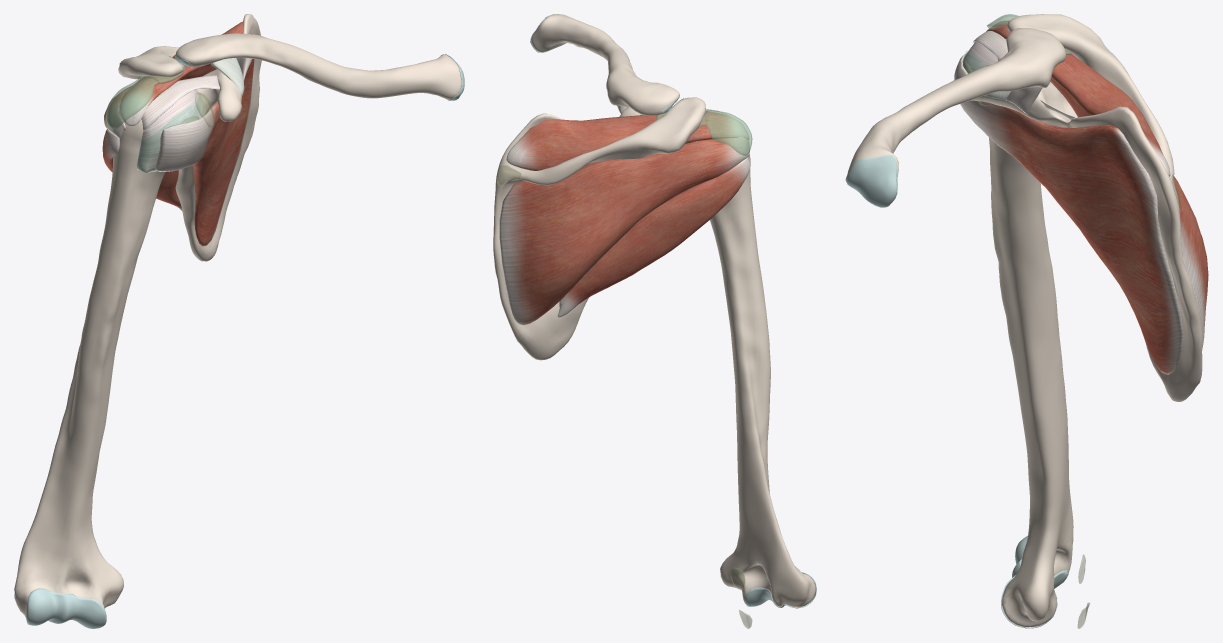
The model's file is open3dmodel-rotator-cuff.glb.
The picture shows the model from 3 angles, left to right: view 1: azimuth 30°, elevation 25°; view 2: azimuth 150°, elevation 25°; view 3: azimuth 270°, elevation 25°; orthographic projection. The views are drawn at different scales.
Visible parts, largest first — view 1: Humerus.r, Clavicle.r, Subscapularis muscle.r, Scapula.r, Art cart of humerus distal end.r, Supraspinatus muscle.r, Articular capsule of glenohumeral joint.r, Subacromial-subdeltoid bursa.r, Subdeltoid bursa.r, Coracohumeral ligament.r, Teres minor muscle.r, Coracoclavicular ligament.r (+1 smaller); view 2: Infraspinatus muscle.r, Humerus.r, Scapula.r, Teres minor muscle.r, Supraspinatus muscle.r, Clavicle.r, Subacromial-subdeltoid bursa.r, Subdeltoid bursa.r, Art cart of humerus distal end.r; view 3: Humerus.r, Subscapularis muscle.r, Scapula.r, Clavicle.r, Supraspinatus muscle.r, Infraspinatus muscle.r, Art cart of sternoclavicular joint on clavicle.r, Coracoclavicular ligament.r, Articular capsule of glenohumeral joint.r, Art cart of humerus distal end.r, Coracohumeral ligament.r.
Boxes of the visible parts, x1,y1,x2,y2 form: Humerus.r: [14, 109, 165, 619]; Clavicle.r: [175, 33, 461, 100]; Subscapularis muscle.r: [155, 33, 254, 246]; Scapula.r: [118, 14, 261, 261]; Art cart of humerus distal end.r: [26, 588, 106, 628]; Supraspinatus muscle.r: [119, 21, 243, 126]; Articular capsule of glenohumeral joint.r: [137, 89, 204, 173]; Subacromial-subdeltoid bursa.r: [106, 64, 185, 129]; Subdeltoid bursa.r: [106, 77, 159, 129]; Coracohumeral ligament.r: [141, 75, 219, 130]; Teres minor muscle.r: [102, 129, 182, 210]; Coracoclavicular ligament.r: [211, 58, 251, 95]; Infraspinatus muscle.r: [499, 137, 749, 325]; Humerus.r: [710, 137, 815, 607]; Scapula.r: [493, 97, 705, 360]; Teres minor muscle.r: [557, 158, 750, 317]; Supraspinatus muscle.r: [506, 111, 748, 170]; Clavicle.r: [531, 14, 679, 115]; Subacromial-subdeltoid bursa.r: [656, 109, 751, 155]; Subdeltoid bursa.r: [705, 110, 752, 155]; Art cart of humerus distal end.r: [745, 572, 816, 608]; Humerus.r: [989, 137, 1073, 627]; Subscapularis muscle.r: [954, 54, 1183, 374]; Scapula.r: [970, 14, 1202, 401]; Clavicle.r: [847, 28, 1066, 187]; Supraspinatus muscle.r: [986, 20, 1170, 176]; Infraspinatus muscle.r: [1071, 53, 1208, 350]; Art cart of sternoclavicular joint on clavicle.r: [845, 154, 897, 207]; Coracoclavicular ligament.r: [984, 86, 1042, 114]; Articular capsule of glenohumeral joint.r: [963, 42, 1050, 81]; Art cart of humerus distal end.r: [1001, 536, 1068, 628]; Coracohumeral ligament.r: [973, 31, 1007, 60].
Bounding box in the file's own units: 0.2379 × 0.3398 × 0.1677.
Materials: 11 (4 with a texture image).
